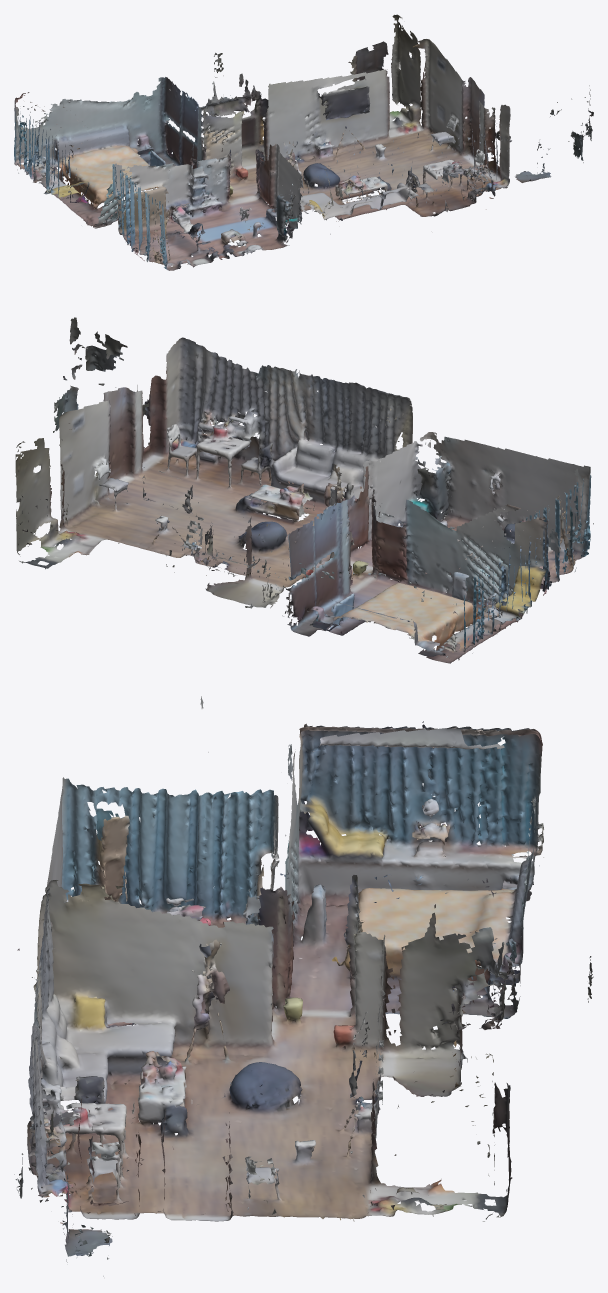
The model's file is apartment.glb.
3 views of the same model, one above another, from view 1: azimuth 30°, elevation 25°; view 2: azimuth 150°, elevation 25°; view 3: azimuth 270°, elevation 25° (orthographic). The views are drawn at different scales.
Parts seen in each view (by area): view 1: geometry_0; view 2: geometry_0; view 3: geometry_0.
Boxes of the visible parts, bbox=[...] form: geometry_0: bbox=[14, 14, 593, 270]; geometry_0: bbox=[15, 317, 593, 663]; geometry_0: bbox=[14, 696, 593, 1276].
Size of the model in its own units: 13.37 by 3.3 by 7.79.
